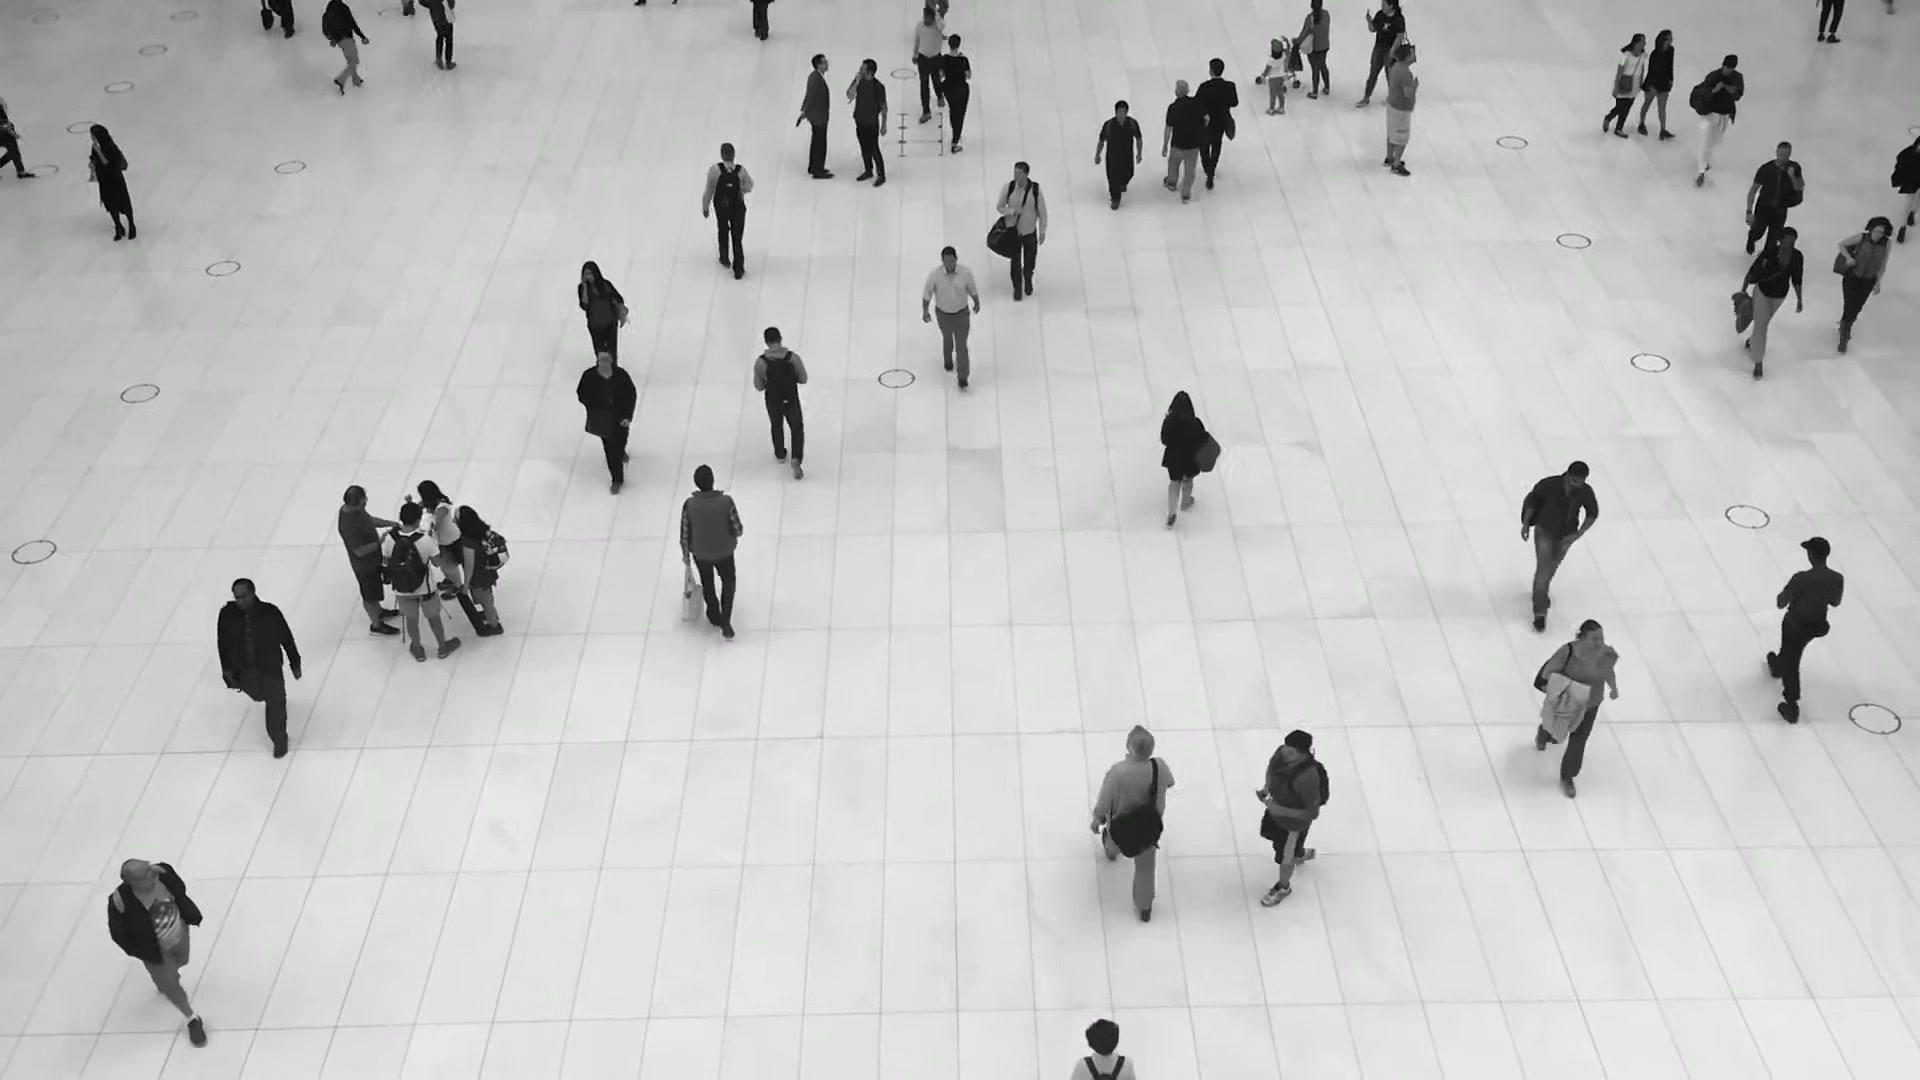person: (107, 858, 208, 1048), (1090, 723, 1175, 918), (1532, 619, 1619, 800), (217, 578, 301, 760), (1764, 534, 1844, 720), (1251, 729, 1329, 907), (1521, 461, 1598, 629), (381, 503, 460, 664), (678, 464, 744, 643), (337, 484, 399, 636), (1743, 226, 1804, 378), (576, 347, 638, 494), (752, 326, 810, 481), (922, 245, 980, 389), (1835, 216, 1893, 351), (454, 504, 509, 637), (996, 162, 1047, 304), (1689, 54, 1744, 185), (1158, 391, 1210, 528), (701, 142, 754, 278), (1744, 141, 1805, 259), (1161, 78, 1210, 203), (88, 121, 136, 241), (1196, 58, 1238, 189), (847, 58, 889, 188), (1094, 100, 1143, 210), (577, 261, 628, 365), (1356, 0, 1405, 107), (418, 480, 459, 600), (1382, 44, 1419, 176), (321, 0, 369, 97), (1602, 33, 1647, 139), (796, 53, 834, 179), (1637, 29, 1675, 140), (912, 5, 945, 125), (940, 33, 972, 154), (1293, 0, 1330, 99), (1260, 38, 1288, 115)
